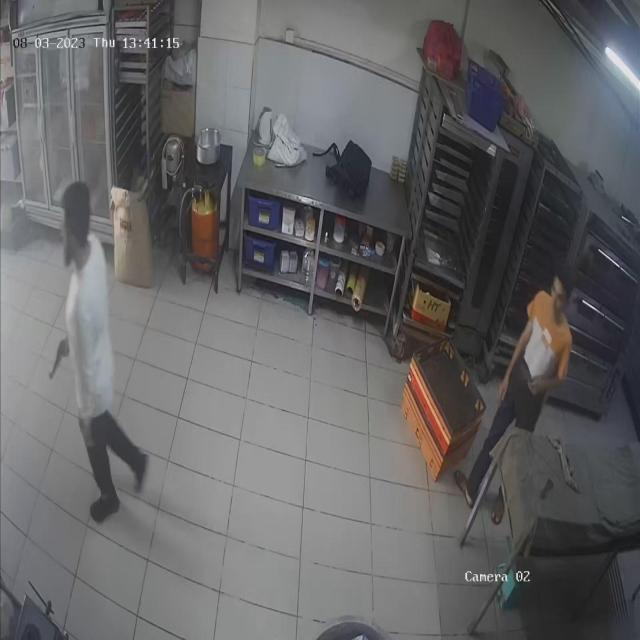Knife: (40, 339, 76, 384)
